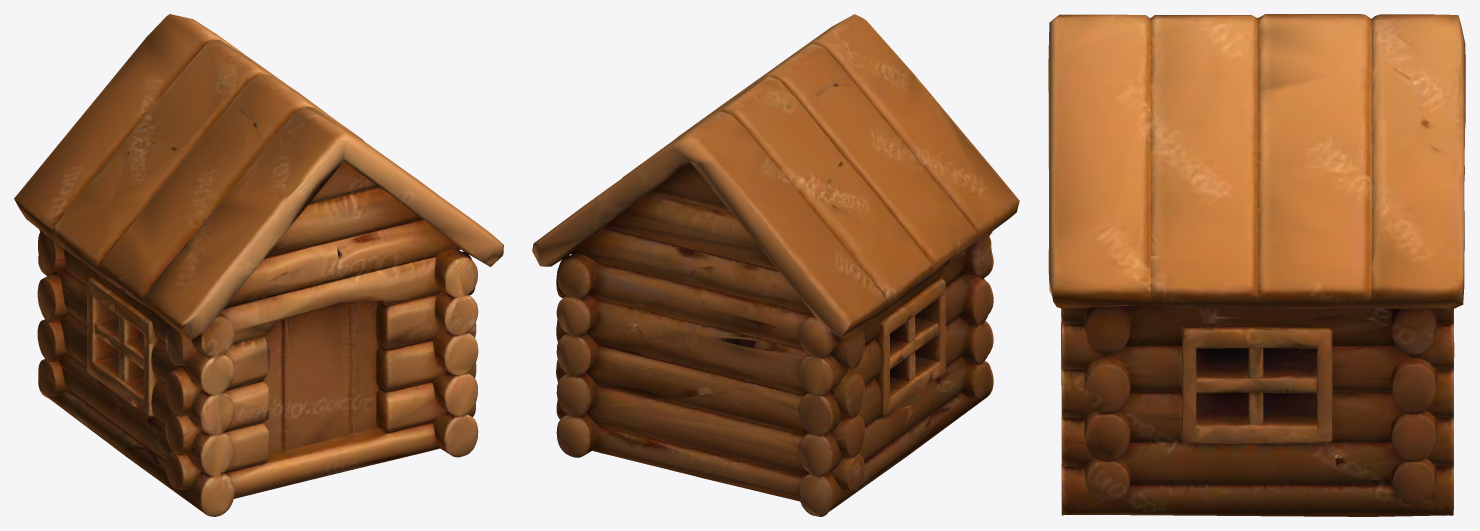
The model's file is cabin_pbr.glb.
The picture shows the model from 3 angles, left to right: view 1: azimuth 30°, elevation 25°; view 2: azimuth 150°, elevation 25°; view 3: azimuth 270°, elevation 25°; orthographic projection. The views are drawn at different scales.
Visible parts, largest first — view 1: model.006; view 2: model.006; view 3: model.006.
Part boxes in pixels (x1=…): model.006: x1=14, y1=14, x2=503, y2=516; model.006: x1=532, y1=14, x2=1019, y2=516; model.006: x1=1048, y1=14, x2=1465, y2=516.
Size of the model in its own units: 1.33 by 1.39 by 1.23.
Materials: 1 (1 with a texture image).
